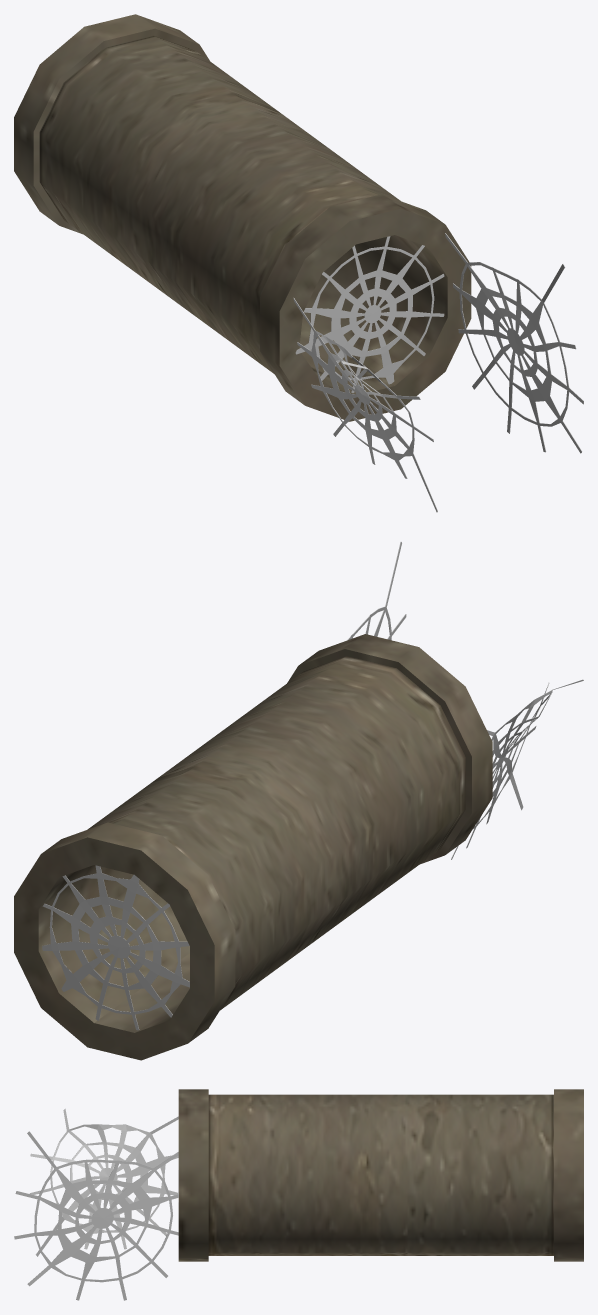
File: Cement_Pipe_and_Webs.fbx
The picture shows the model from 3 angles, top to bottom: view 1: azimuth 30°, elevation 25°; view 2: azimuth 150°, elevation 25°; view 3: azimuth 270°, elevation 25°; orthographic projection. The views are drawn at different scales.
Parts seen in each view (by area): view 1: Cement_Pipe_and_Webs, Cement_Pipe_and_Webs.001; view 2: Cement_Pipe_and_Webs, Cement_Pipe_and_Webs.001; view 3: Cement_Pipe_and_Webs, Cement_Pipe_and_Webs.001.
Part boxes in pixels (x1,y1,x2,y2): Cement_Pipe_and_Webs: [14, 14, 471, 421]; Cement_Pipe_and_Webs.001: [293, 233, 583, 512]; Cement_Pipe_and_Webs: [14, 634, 492, 1060]; Cement_Pipe_and_Webs.001: [42, 542, 583, 1030]; Cement_Pipe_and_Webs: [178, 1089, 583, 1261]; Cement_Pipe_and_Webs.001: [14, 1108, 178, 1300].
Size of the model in its own units: 119 by 118 by 357.
